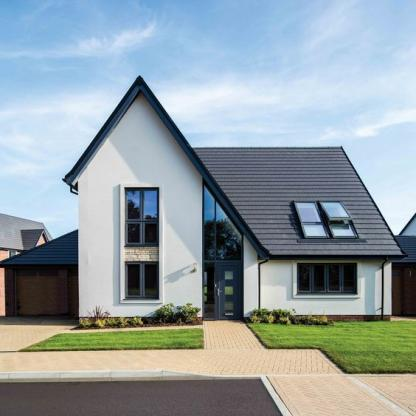Building Outline: (0, 73, 409, 326)
Door: (16, 269, 59, 315), (218, 263, 241, 320), (69, 269, 79, 315)
Facade: (0, 73, 409, 326)
Floor Slab: (79, 247, 202, 261)
Roof: (61, 74, 409, 260), (0, 228, 78, 268)
Window: (204, 184, 242, 260), (296, 202, 356, 236), (127, 190, 157, 243), (299, 265, 354, 290), (127, 264, 157, 296), (204, 262, 214, 319)
